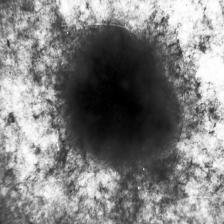Benign Marking or Mole: (69, 36, 170, 150)
